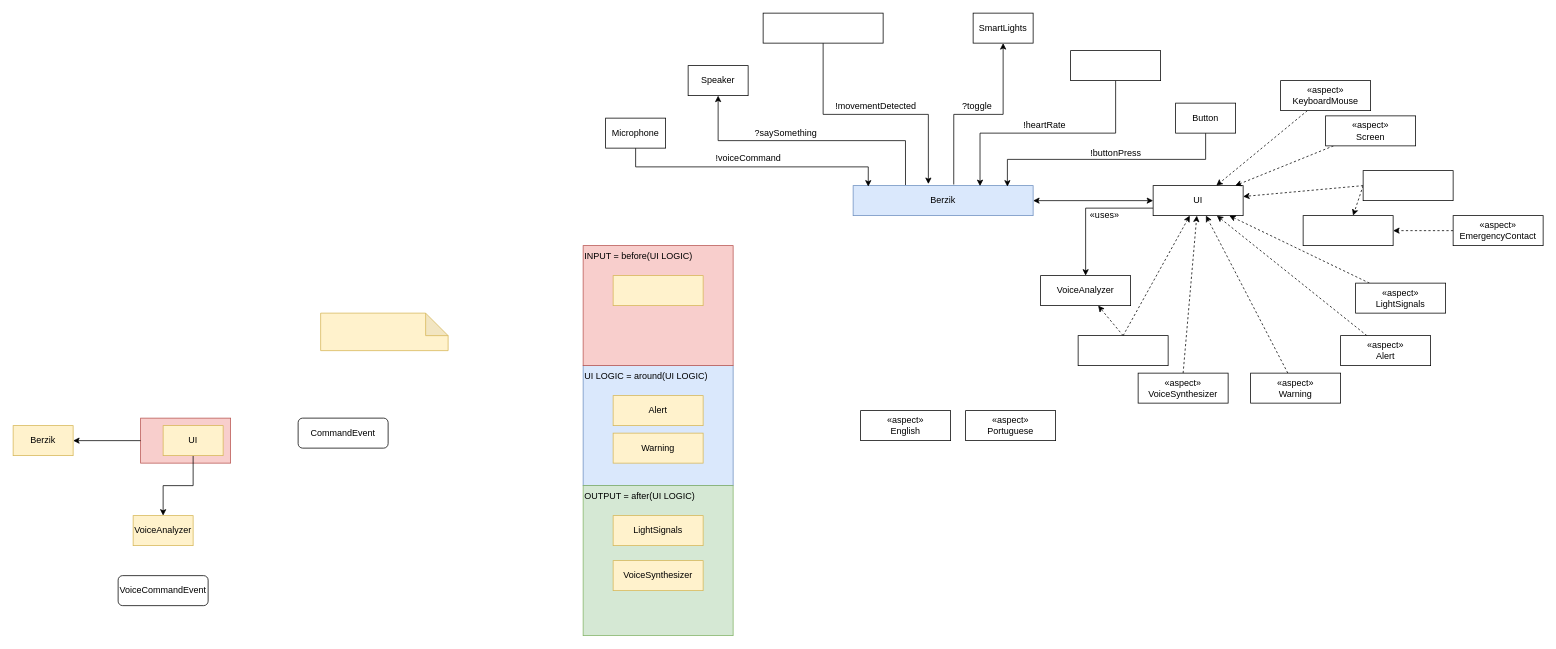
Some shapes in this 1556 by 649 pixel diagram are drawn without their labels. The shapes that lost their labels are listed below. From the top down, each one's centre as x and y in pixels, then its label:
At (x=822, y=27): "MovementDetectionSensor".
At (x=1115, y=65): "HeartbeatMonitor".
At (x=1407, y=185): "«aspect» ContactList".
At (x=1347, y=230): "ContactList".
At (x=657, y=290): "VoiceCommands".
At (x=384, y=331): "Sends a text message to the emergency contact".
At (x=1122, y=350): "«aspect» VoiceCommands".
